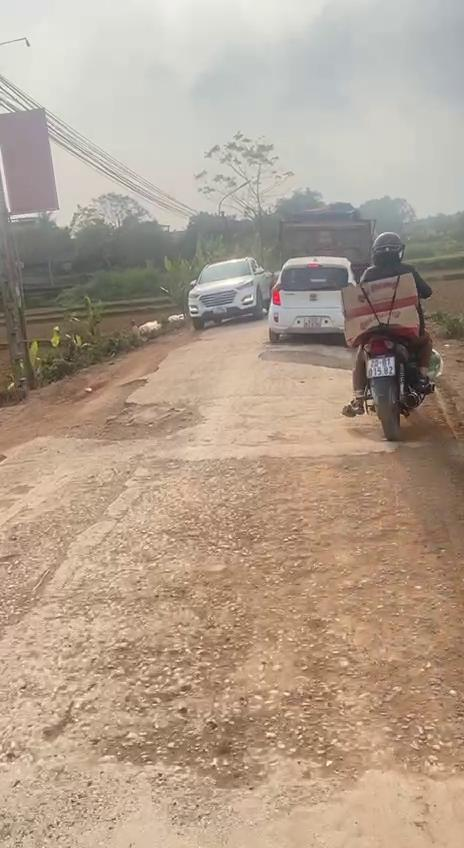pothole: (96, 685, 348, 798), (44, 377, 203, 446), (255, 346, 353, 374)
